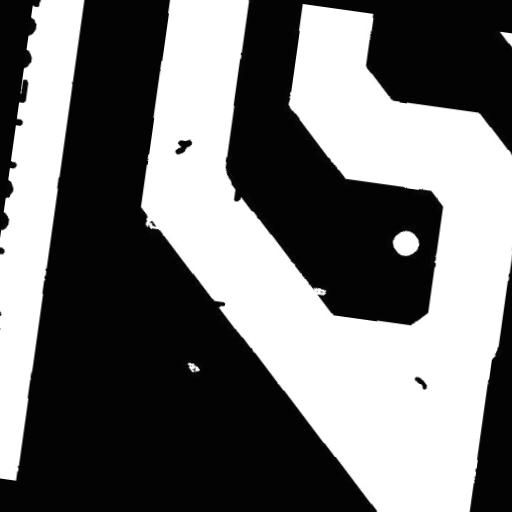copper: (166, 130, 201, 164), (405, 368, 436, 398)
mousebite: (136, 202, 170, 239), (304, 278, 334, 304)
pin-hole: (178, 354, 208, 382)
spur: (225, 180, 250, 210), (204, 292, 234, 316)
